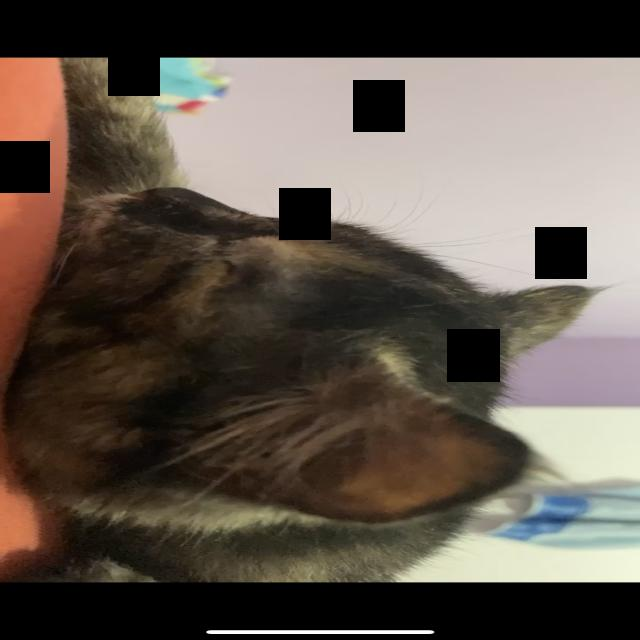authorized: (4, 57, 614, 582)
